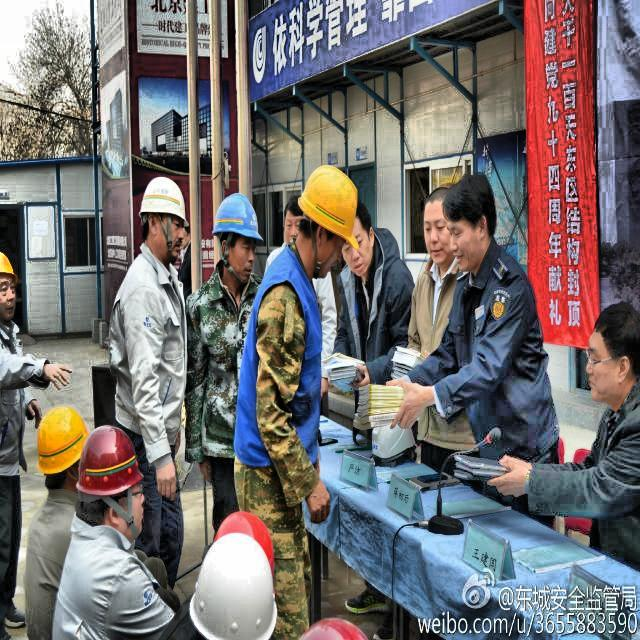person: (264, 159, 360, 601), (438, 178, 566, 489), (549, 261, 640, 579), (58, 417, 171, 640), (188, 184, 262, 511), (110, 174, 197, 448), (25, 404, 89, 640), (0, 231, 34, 633), (343, 205, 418, 348), (413, 178, 455, 386), (282, 194, 302, 248)
